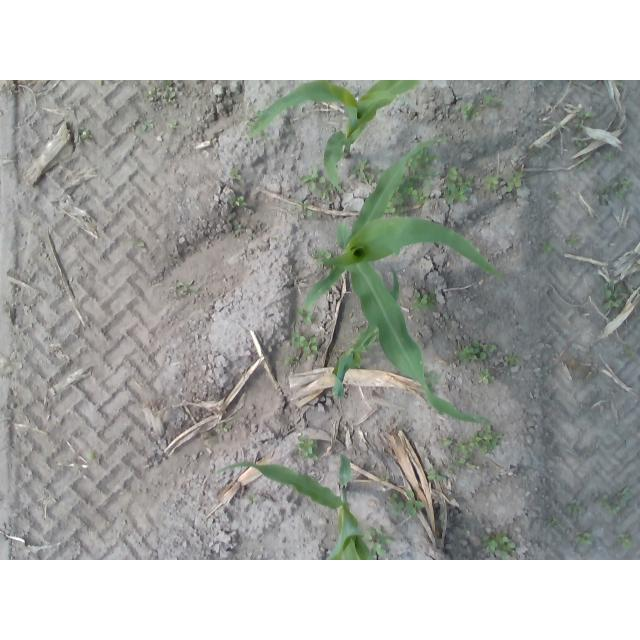Maize: (306, 140, 503, 425), (247, 80, 417, 188), (218, 454, 373, 560), (335, 266, 399, 398)
Weeds: (473, 426, 504, 455), (485, 534, 516, 559), (300, 166, 324, 190), (412, 292, 436, 313), (404, 490, 424, 515), (455, 442, 477, 463), (444, 183, 467, 203), (296, 436, 316, 456), (351, 158, 369, 179), (388, 497, 404, 519), (419, 151, 437, 170), (506, 172, 523, 192), (459, 348, 479, 363), (178, 281, 199, 295), (411, 190, 429, 206), (620, 486, 633, 507), (478, 369, 494, 386), (474, 340, 487, 360), (605, 282, 621, 298), (291, 331, 306, 348), (576, 532, 593, 546), (598, 187, 611, 205), (485, 176, 500, 191), (367, 525, 382, 540), (407, 174, 424, 187), (371, 543, 388, 556), (317, 251, 331, 266), (306, 336, 319, 352), (299, 309, 313, 323), (317, 186, 331, 200), (410, 161, 423, 176), (568, 500, 584, 512), (604, 299, 623, 309), (428, 470, 443, 482), (462, 102, 473, 118), (216, 423, 233, 433), (621, 178, 634, 191), (401, 182, 415, 194), (141, 119, 153, 132), (285, 353, 298, 365), (149, 87, 160, 101), (487, 343, 498, 356), (597, 494, 608, 507), (605, 505, 619, 515), (396, 198, 405, 213), (447, 167, 458, 179), (424, 170, 436, 181), (506, 354, 517, 366), (233, 195, 246, 205), (458, 177, 472, 186), (361, 176, 375, 185), (164, 92, 176, 102), (132, 237, 144, 247), (575, 139, 587, 149), (380, 535, 392, 545), (541, 242, 554, 251), (624, 536, 633, 549), (168, 120, 179, 130), (483, 95, 493, 106), (615, 189, 626, 199), (160, 81, 172, 90), (232, 168, 240, 181), (234, 224, 244, 234), (581, 162, 592, 171), (580, 111, 592, 119), (302, 455, 318, 461), (440, 439, 453, 446), (604, 152, 614, 161), (575, 118, 582, 130), (87, 452, 97, 460), (389, 203, 396, 214), (566, 236, 574, 245), (547, 519, 558, 525), (496, 99, 504, 107), (422, 180, 430, 188), (626, 349, 635, 356), (83, 133, 92, 140), (80, 127, 89, 134), (304, 210, 313, 217), (450, 461, 459, 468), (379, 477, 388, 484), (300, 200, 308, 207), (551, 192, 558, 200), (574, 235, 580, 244), (466, 463, 475, 469), (473, 112, 480, 119), (612, 180, 618, 188), (390, 492, 398, 498), (447, 469, 454, 475), (308, 355, 315, 360), (179, 292, 185, 297), (272, 237, 278, 240)
